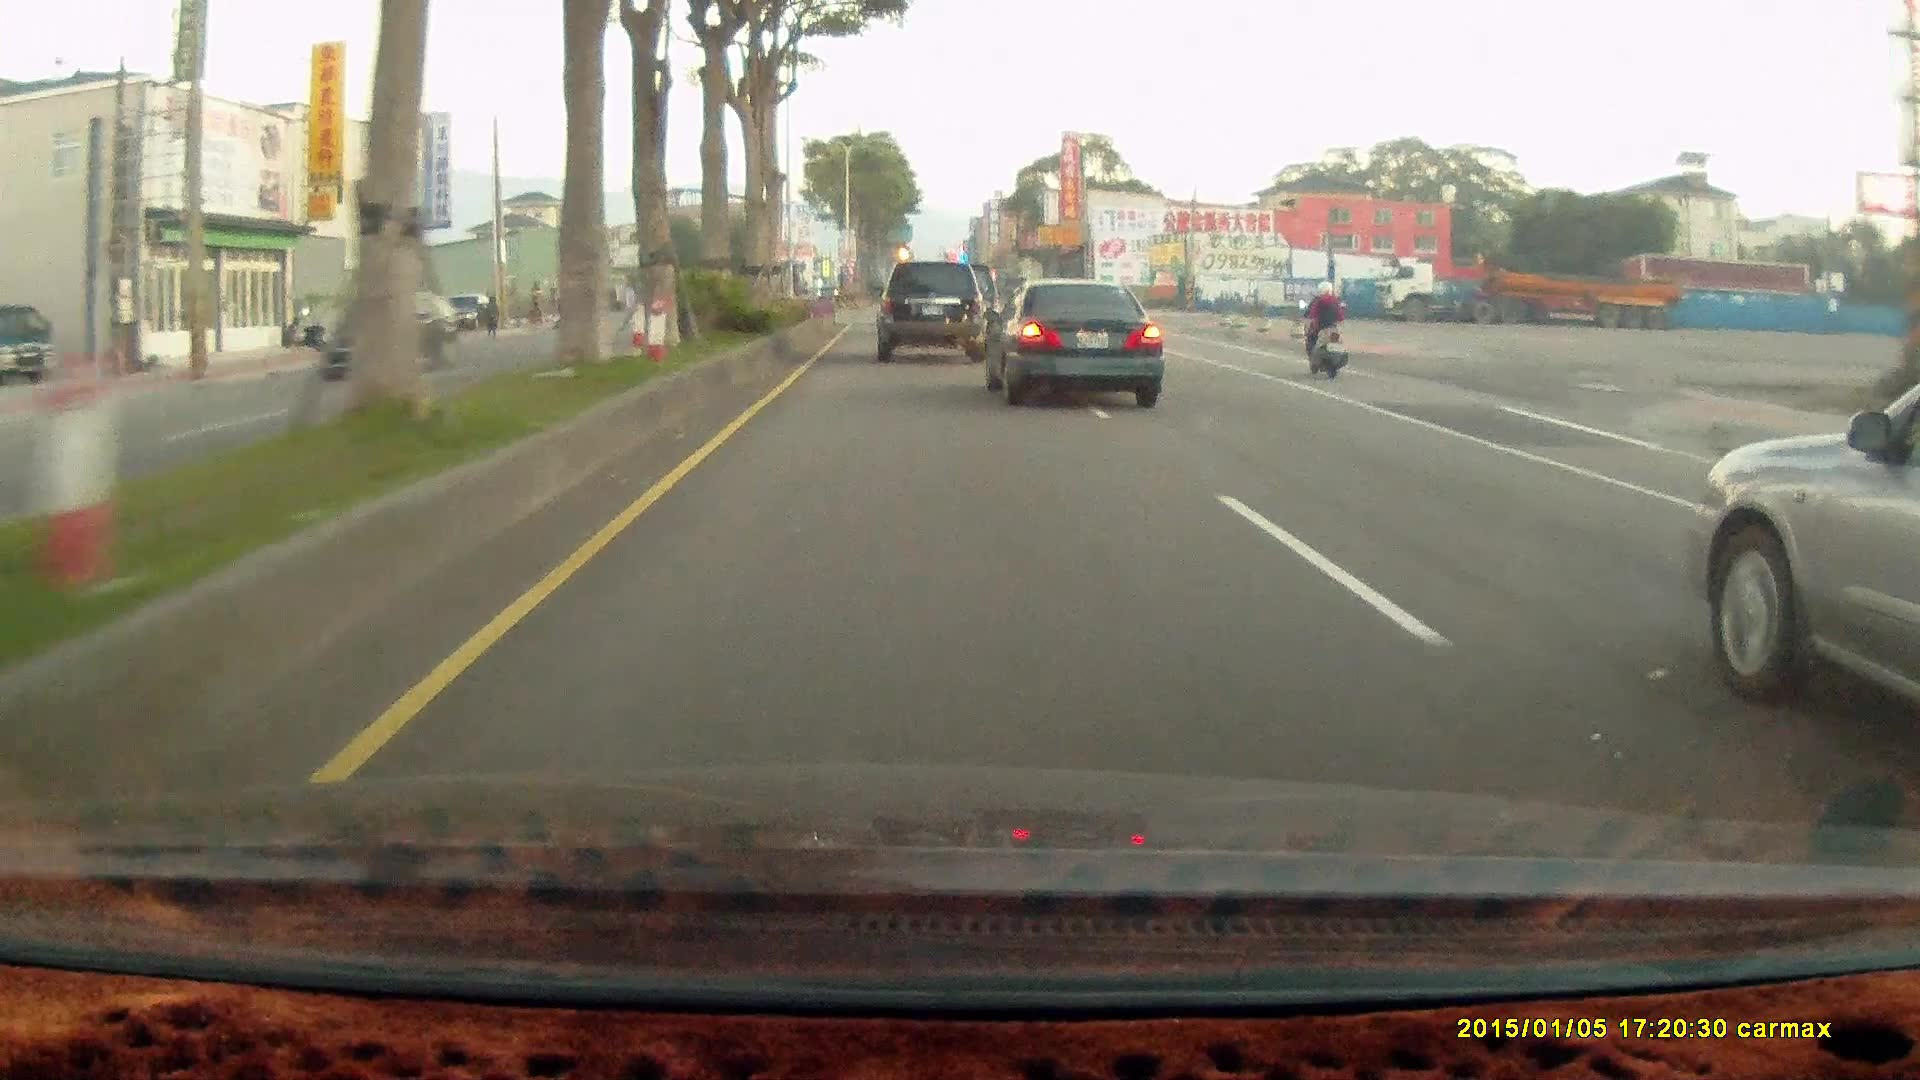rider: (1288, 270, 1359, 390), (1295, 282, 1347, 380)
vehicle: (1685, 378, 1920, 725), (979, 277, 1162, 406), (990, 279, 1168, 406), (1371, 258, 1679, 331), (875, 259, 993, 365), (321, 287, 457, 378), (875, 260, 987, 363), (1, 306, 64, 385), (1, 306, 59, 385), (432, 293, 494, 333)
